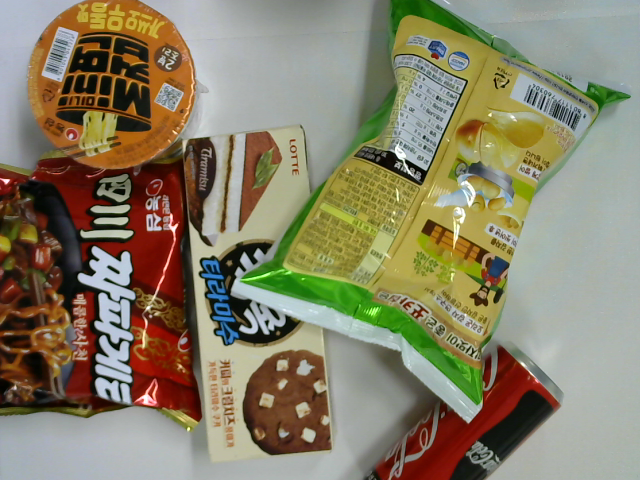Chicchok_Tiramisu: (177, 123, 342, 460)
Coca_Cola_Zero_Can_250ml: (356, 341, 565, 480)
Pocachip_Onion: (227, 1, 632, 426)
Sichuan_Chapaghetti: (1, 133, 208, 432)
Udongmini: (24, 1, 198, 171)
